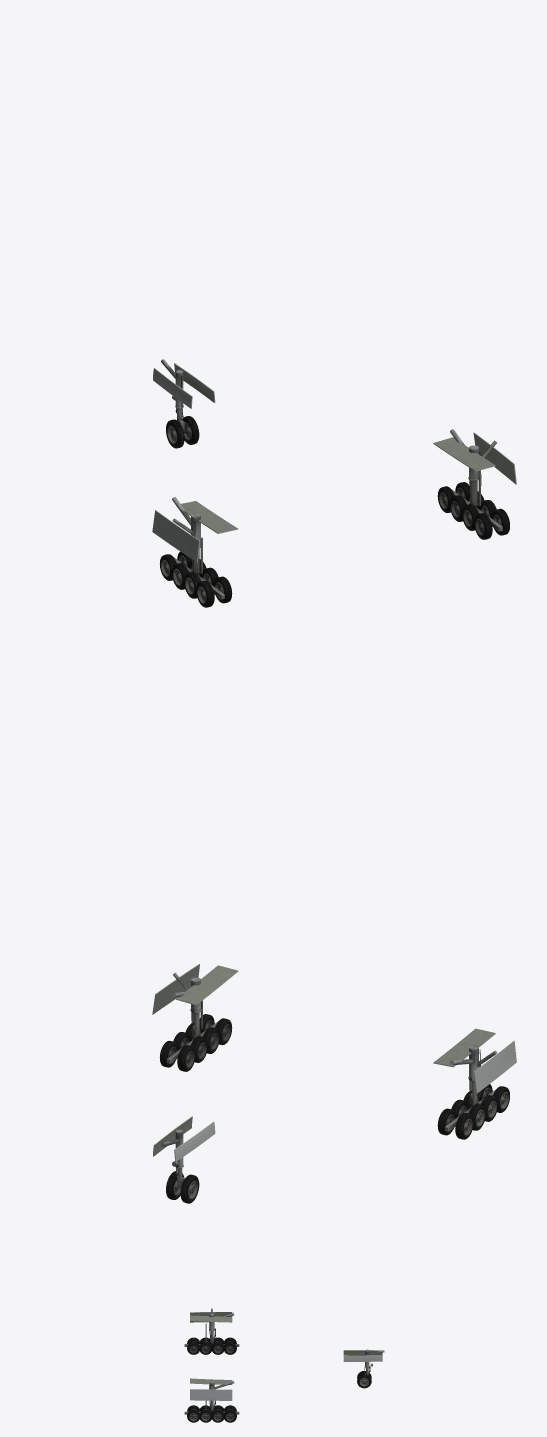
The model's file is vulcan_gear.glb.
3 renders of one model, top to bottom at view 1: azimuth 30°, elevation 25°; view 2: azimuth 150°, elevation 25°; view 3: azimuth 270°, elevation 25°, orthographic. The views are drawn at different scales.
Visible parts, largest first — view 1: gear_m_r, gear_m_l, gear_n, door_mo_l, door_mi_r, door_mi_l, door_mo_r; view 2: gear_m_l, gear_m_r, gear_n, door_mo_l, door_mi_r, door_mi_l, door_mo_r; view 3: gear_m_l, gear_m_r, door_mo_r, gear_n, door_n_r, door_mi_l.
Boxes of the visible parts, left/top/right/bottom form: gear_m_r: left=437, top=429, right=509, bottom=539; gear_m_l: left=160, top=497, right=232, bottom=607; gear_n: left=161, top=359, right=199, bottom=448; door_mo_l: left=152, top=510, right=199, bottom=562; door_mi_r: left=433, top=437, right=495, bottom=471; door_mi_l: left=181, top=501, right=238, bottom=533; door_mo_r: left=473, top=432, right=516, bottom=484; gear_m_l: left=437, top=1045, right=509, bottom=1139; gear_m_r: left=159, top=972, right=232, bottom=1071; gear_n: left=161, top=1129, right=199, bottom=1203; door_mo_l: left=473, top=1040, right=516, bottom=1093; door_mi_r: left=176, top=965, right=238, bottom=1005; door_mi_l: left=433, top=1028, right=495, bottom=1067; door_mo_r: left=152, top=964, right=199, bottom=1014; gear_m_l: left=184, top=1308, right=239, bottom=1354; gear_m_r: left=184, top=1381, right=239, bottom=1422; door_mo_r: left=190, top=1389, right=232, bottom=1400; gear_n: left=357, top=1349, right=384, bottom=1388; door_n_r: left=343, top=1355, right=382, bottom=1361; door_mi_l: left=190, top=1315, right=232, bottom=1322.
Bounding box in the file's own units: 11.1 × 10.05 × 30.72.
Materials: 1 (1 with a texture image).
